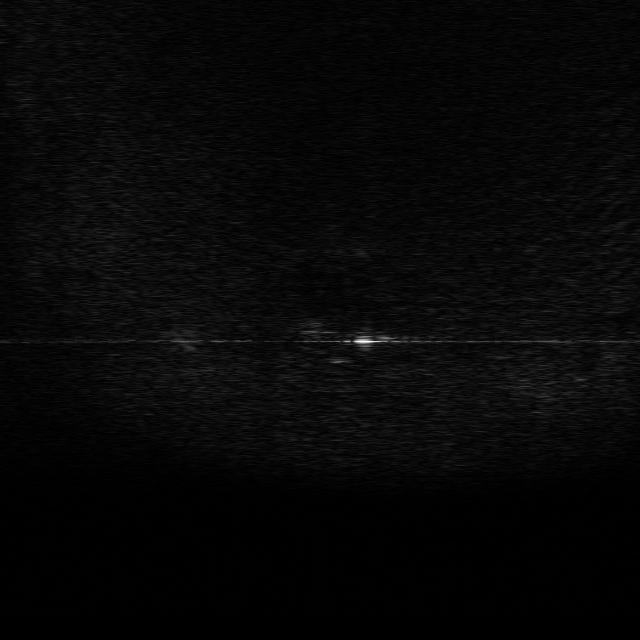plane: (298, 320, 388, 364)
